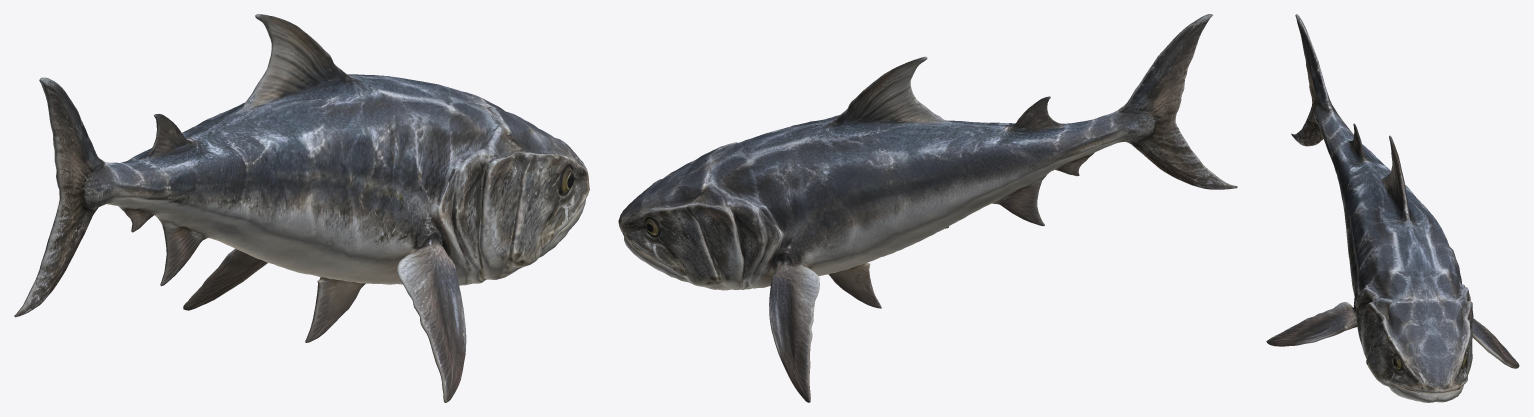
File: birgeria.preview.glb
3 renders of one model, left to right at view 1: azimuth 30°, elevation 25°; view 2: azimuth 150°, elevation 25°; view 3: azimuth 270°, elevation 25°, orthographic. The views are drawn at different scales.
Visible parts, largest first — view 1: tripo_node_3dc0dbb9-5dd8-407f-9f76-5500d926e63f.001; view 2: tripo_node_3dc0dbb9-5dd8-407f-9f76-5500d926e63f.001; view 3: tripo_node_3dc0dbb9-5dd8-407f-9f76-5500d926e63f.001.
Part boxes in pixels (left/top/right/bottom): tripo_node_3dc0dbb9-5dd8-407f-9f76-5500d926e63f.001: left=14, top=14, right=589, bottom=402; tripo_node_3dc0dbb9-5dd8-407f-9f76-5500d926e63f.001: left=618, top=14, right=1237, bottom=402; tripo_node_3dc0dbb9-5dd8-407f-9f76-5500d926e63f.001: left=1266, top=14, right=1519, bottom=402.
Bounding box in the file's own units: 1 × 0.6306 × 0.558.
1 material, 1 textured.
